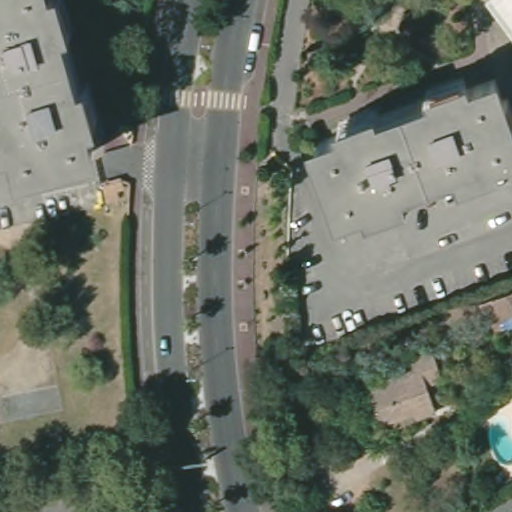pool: (487, 409, 512, 472)
